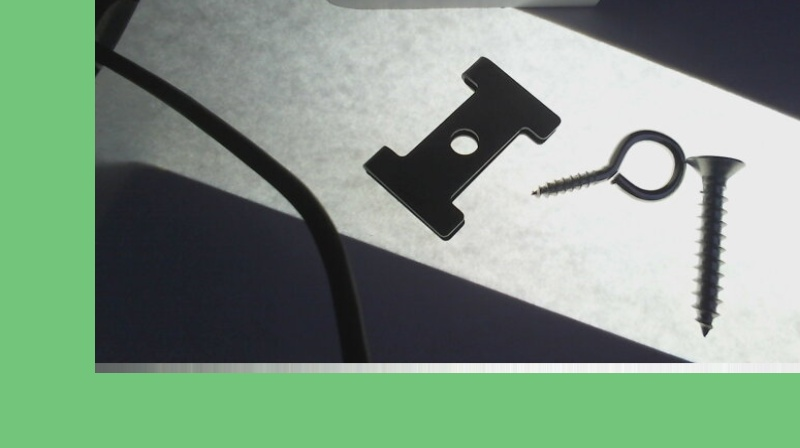O001: (529, 128, 686, 201)
O002: (362, 55, 559, 240)
S001: (684, 154, 750, 337)
